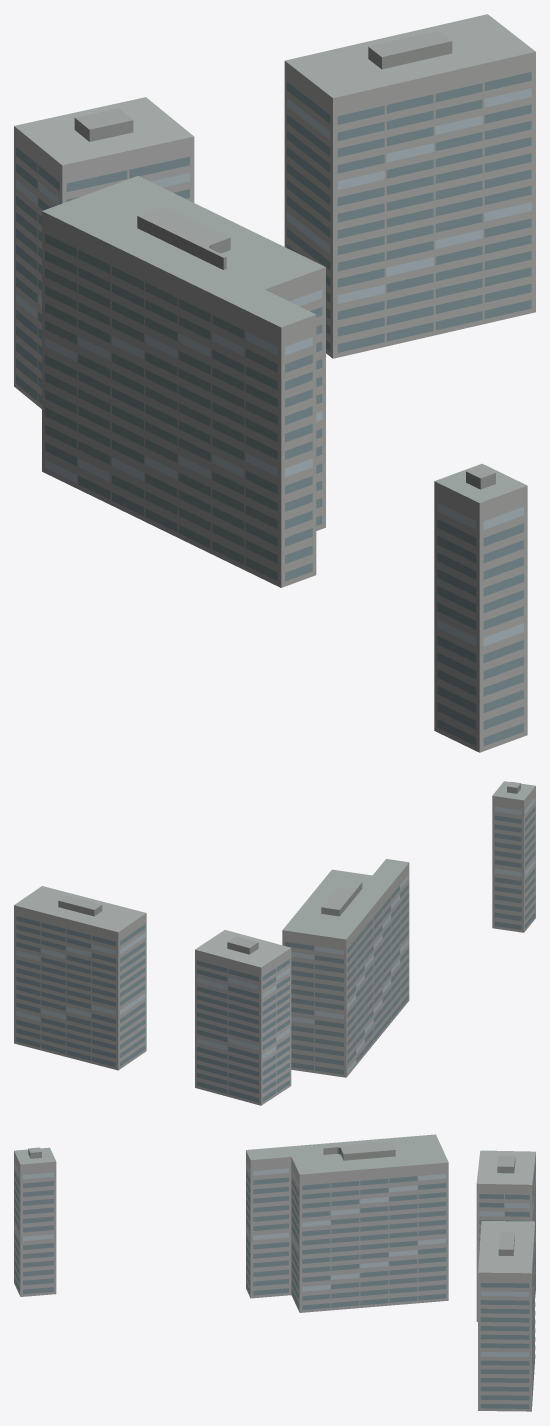
Rendered from apt-a10023070.glb.
The picture shows the model from 3 angles, top to bottom: view 1: azimuth 30°, elevation 25°; view 2: azimuth 150°, elevation 25°; view 3: azimuth 270°, elevation 25°; orthographic projection. The views are drawn at different scales.
Visible parts, largest first — view 1: apt-a10023070; view 2: apt-a10023070; view 3: apt-a10023070.
Part boxes in pixels (x1,y1,x2,y2): apt-a10023070: (14,14,535,752); apt-a10023070: (14,781,535,1105); apt-a10023070: (14,1134,535,1411).
Size of the model in its own units: 103 by 50 by 163.
